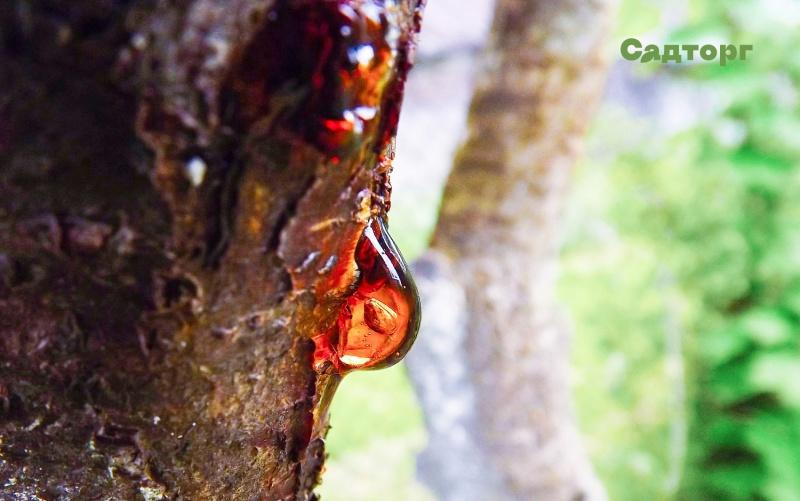gommosis: (315, 218, 420, 372)
